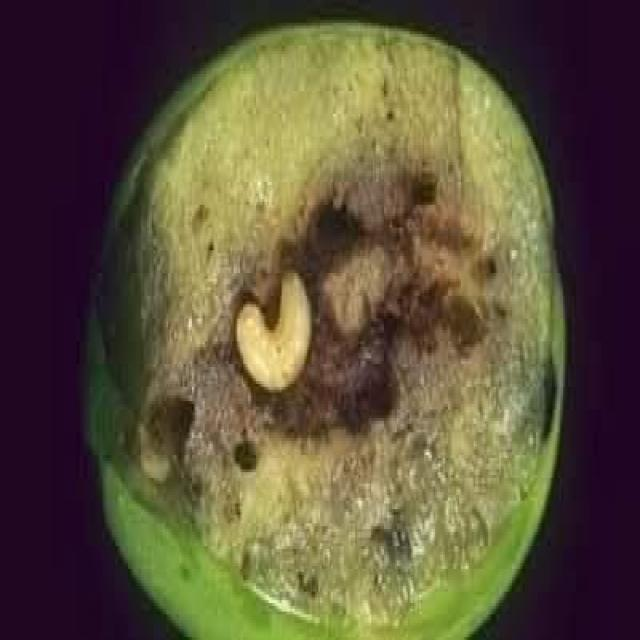Olive Fruit Fly: (86, 23, 563, 637)
